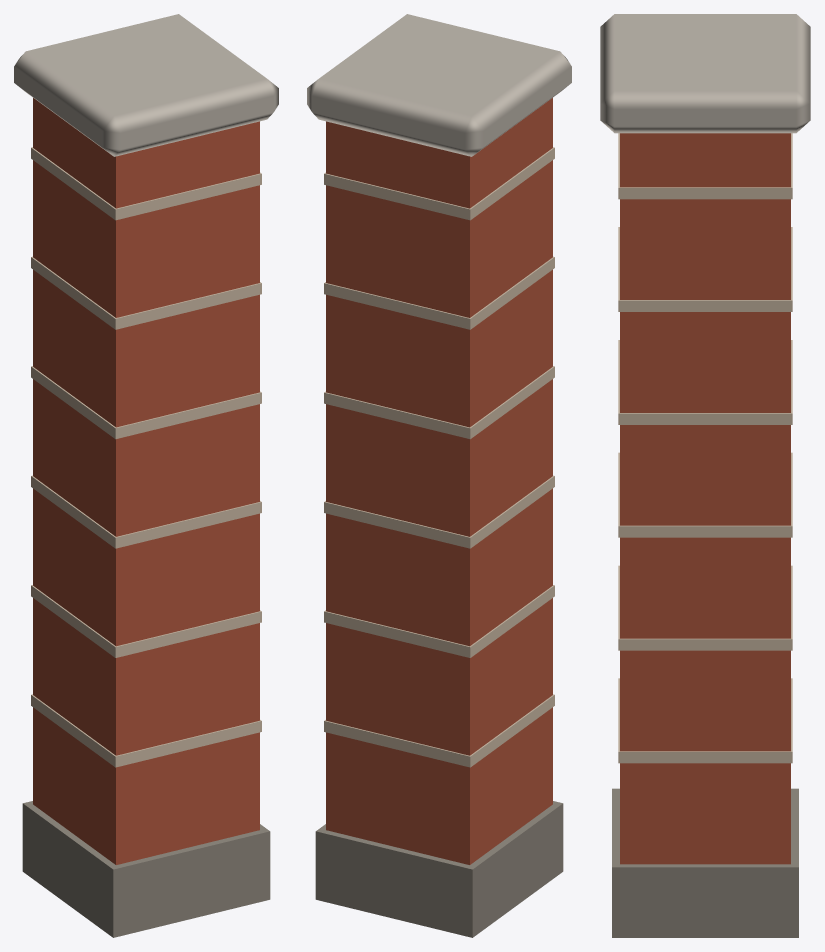
File: pfosten_halb.glb
3 renders of one model, left to right at view 1: azimuth 30°, elevation 25°; view 2: azimuth 150°, elevation 25°; view 3: azimuth 270°, elevation 25°, orthographic. The views are drawn at different scales.
Visible parts, largest first — view 1: pfosten_halb; view 2: pfosten_halb; view 3: pfosten_halb.
Part boxes in pixels (x1,y1,x2,y2): pfosten_halb: (14,14,278,937); pfosten_halb: (307,14,571,937); pfosten_halb: (600,14,810,937).
Bounding box in the file's own units: 0.27 × 1.2 × 0.27.
